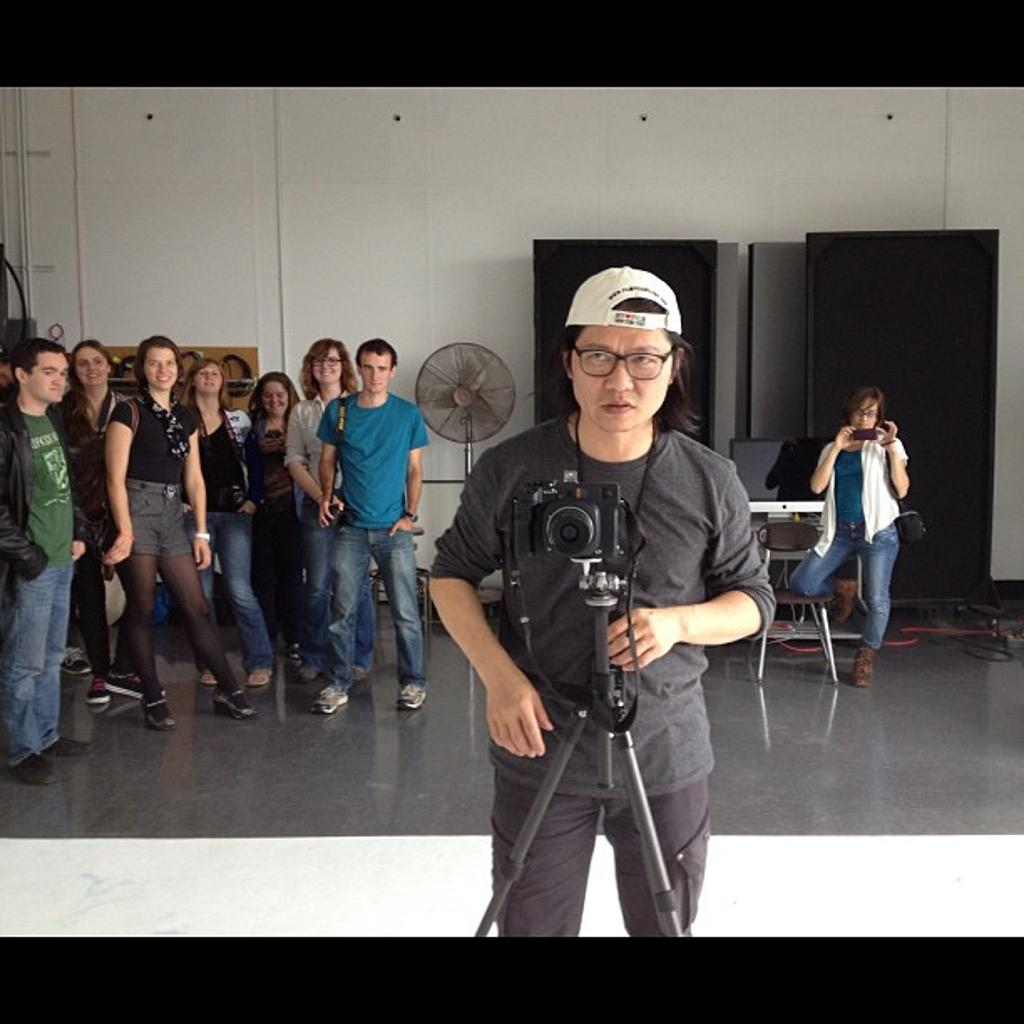face: (572, 314, 673, 430), (26, 354, 67, 401), (144, 348, 176, 387), (75, 346, 107, 385), (362, 350, 390, 390), (312, 346, 342, 382), (850, 396, 877, 432), (262, 380, 288, 414), (195, 361, 222, 393)
